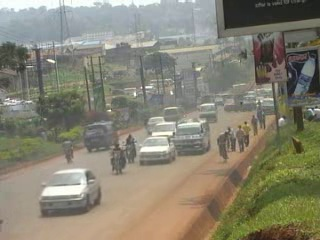Car: (38, 164, 107, 219), (136, 134, 178, 168), (149, 121, 181, 141), (223, 99, 258, 114), (146, 115, 166, 136), (210, 94, 224, 105)
Motorcycle: (107, 141, 129, 176), (124, 134, 138, 165), (61, 136, 76, 163)
